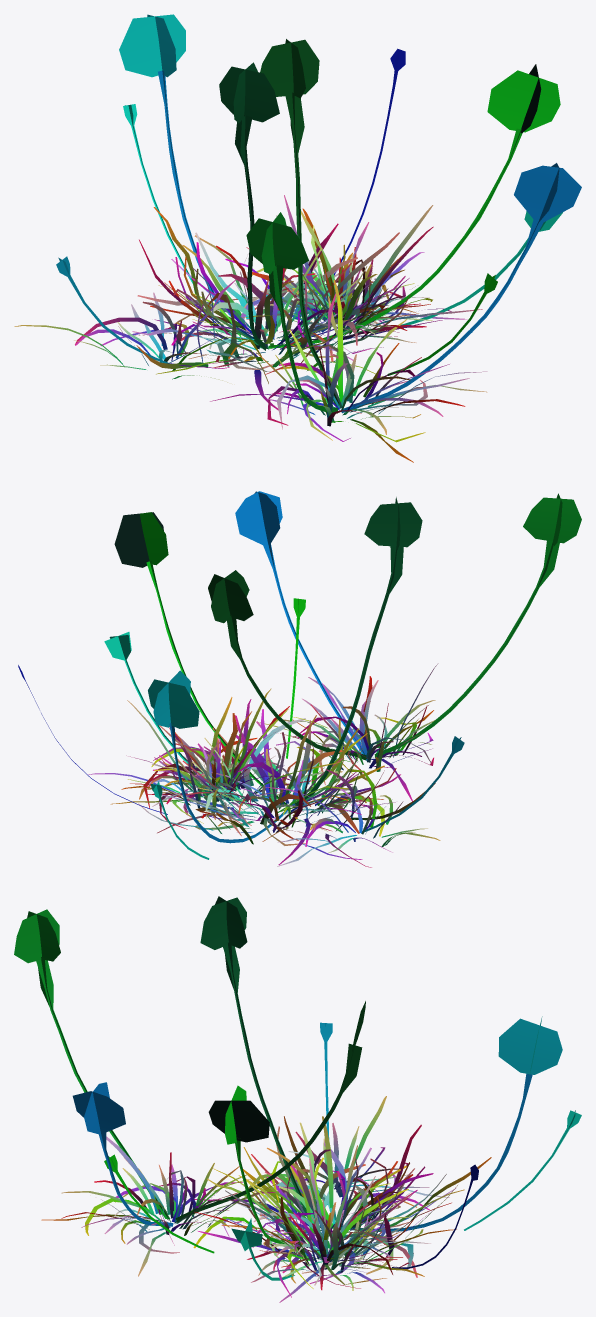
The model's file is Sea_Thrift_vkbgaihha_Mid_vkbgaihha_VarC_LOD0.fbx.
3 renders of one model, top to bottom at view 1: azimuth 30°, elevation 25°; view 2: azimuth 150°, elevation 25°; view 3: azimuth 270°, elevation 25°, orthographic. The views are drawn at different scales.
Visible parts, largest first — view 1: _h4ei_VarC_LOD1; view 2: _h4ei_VarC_LOD1; view 3: _h4ei_VarC_LOD1.
Part boxes in pixels (<box>): _h4ei_VarC_LOD1: <box>14,14,581,462</box>; _h4ei_VarC_LOD1: <box>18,491,581,867</box>; _h4ei_VarC_LOD1: <box>14,896,581,1302</box>.
Size of the model in its own units: 31.4 by 22.66 by 37.64.
